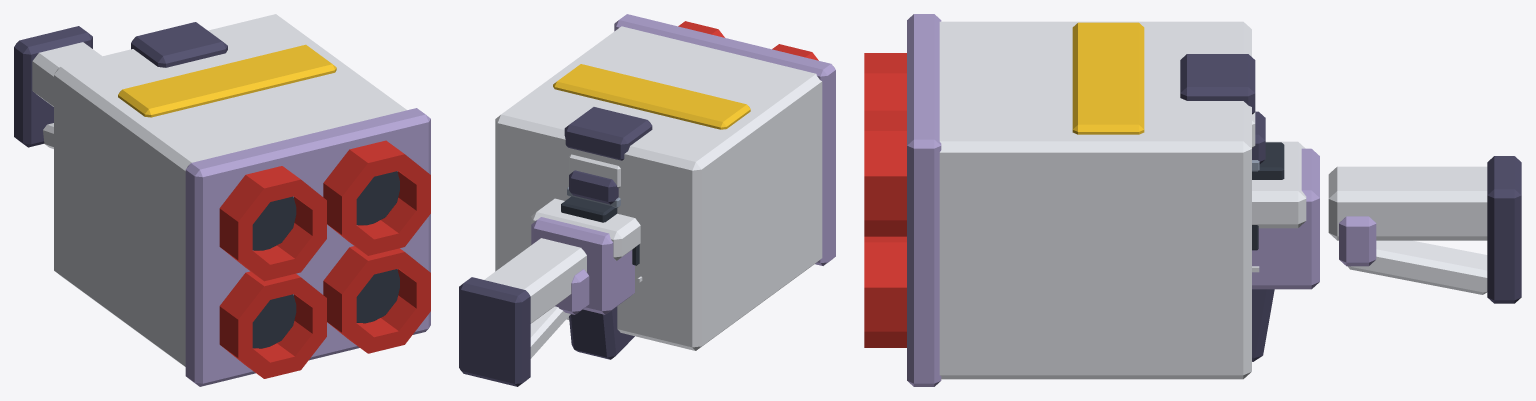
Rendered from Future_Launcher_v003.fbx.
3 views of the same model, side by side, from view 1: azimuth 30°, elevation 25°; view 2: azimuth 150°, elevation 25°; view 3: azimuth 270°, elevation 25° (orthographic). The views are drawn at different scales.
Visible parts, largest first — view 1: Future_Launcher__RECEIVER_MESH; view 2: Future_Launcher__RECEIVER_MESH; view 3: Future_Launcher__RECEIVER_MESH.
Part boxes in pixels (x1,y1,x2,y2): Future_Launcher__RECEIVER_MESH: (14, 14, 430, 386); Future_Launcher__RECEIVER_MESH: (459, 14, 835, 386); Future_Launcher__RECEIVER_MESH: (864, 14, 1521, 386).
Bounding box in the file's own units: 0.91 × 0.9094 × 1.93.
